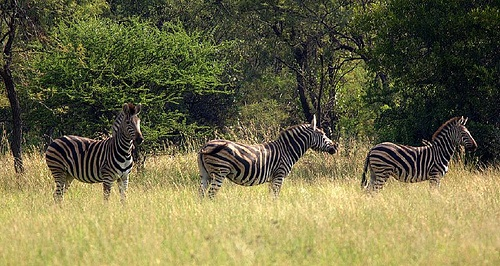zebra: (198, 114, 339, 197), (44, 102, 144, 202), (360, 117, 482, 193)
